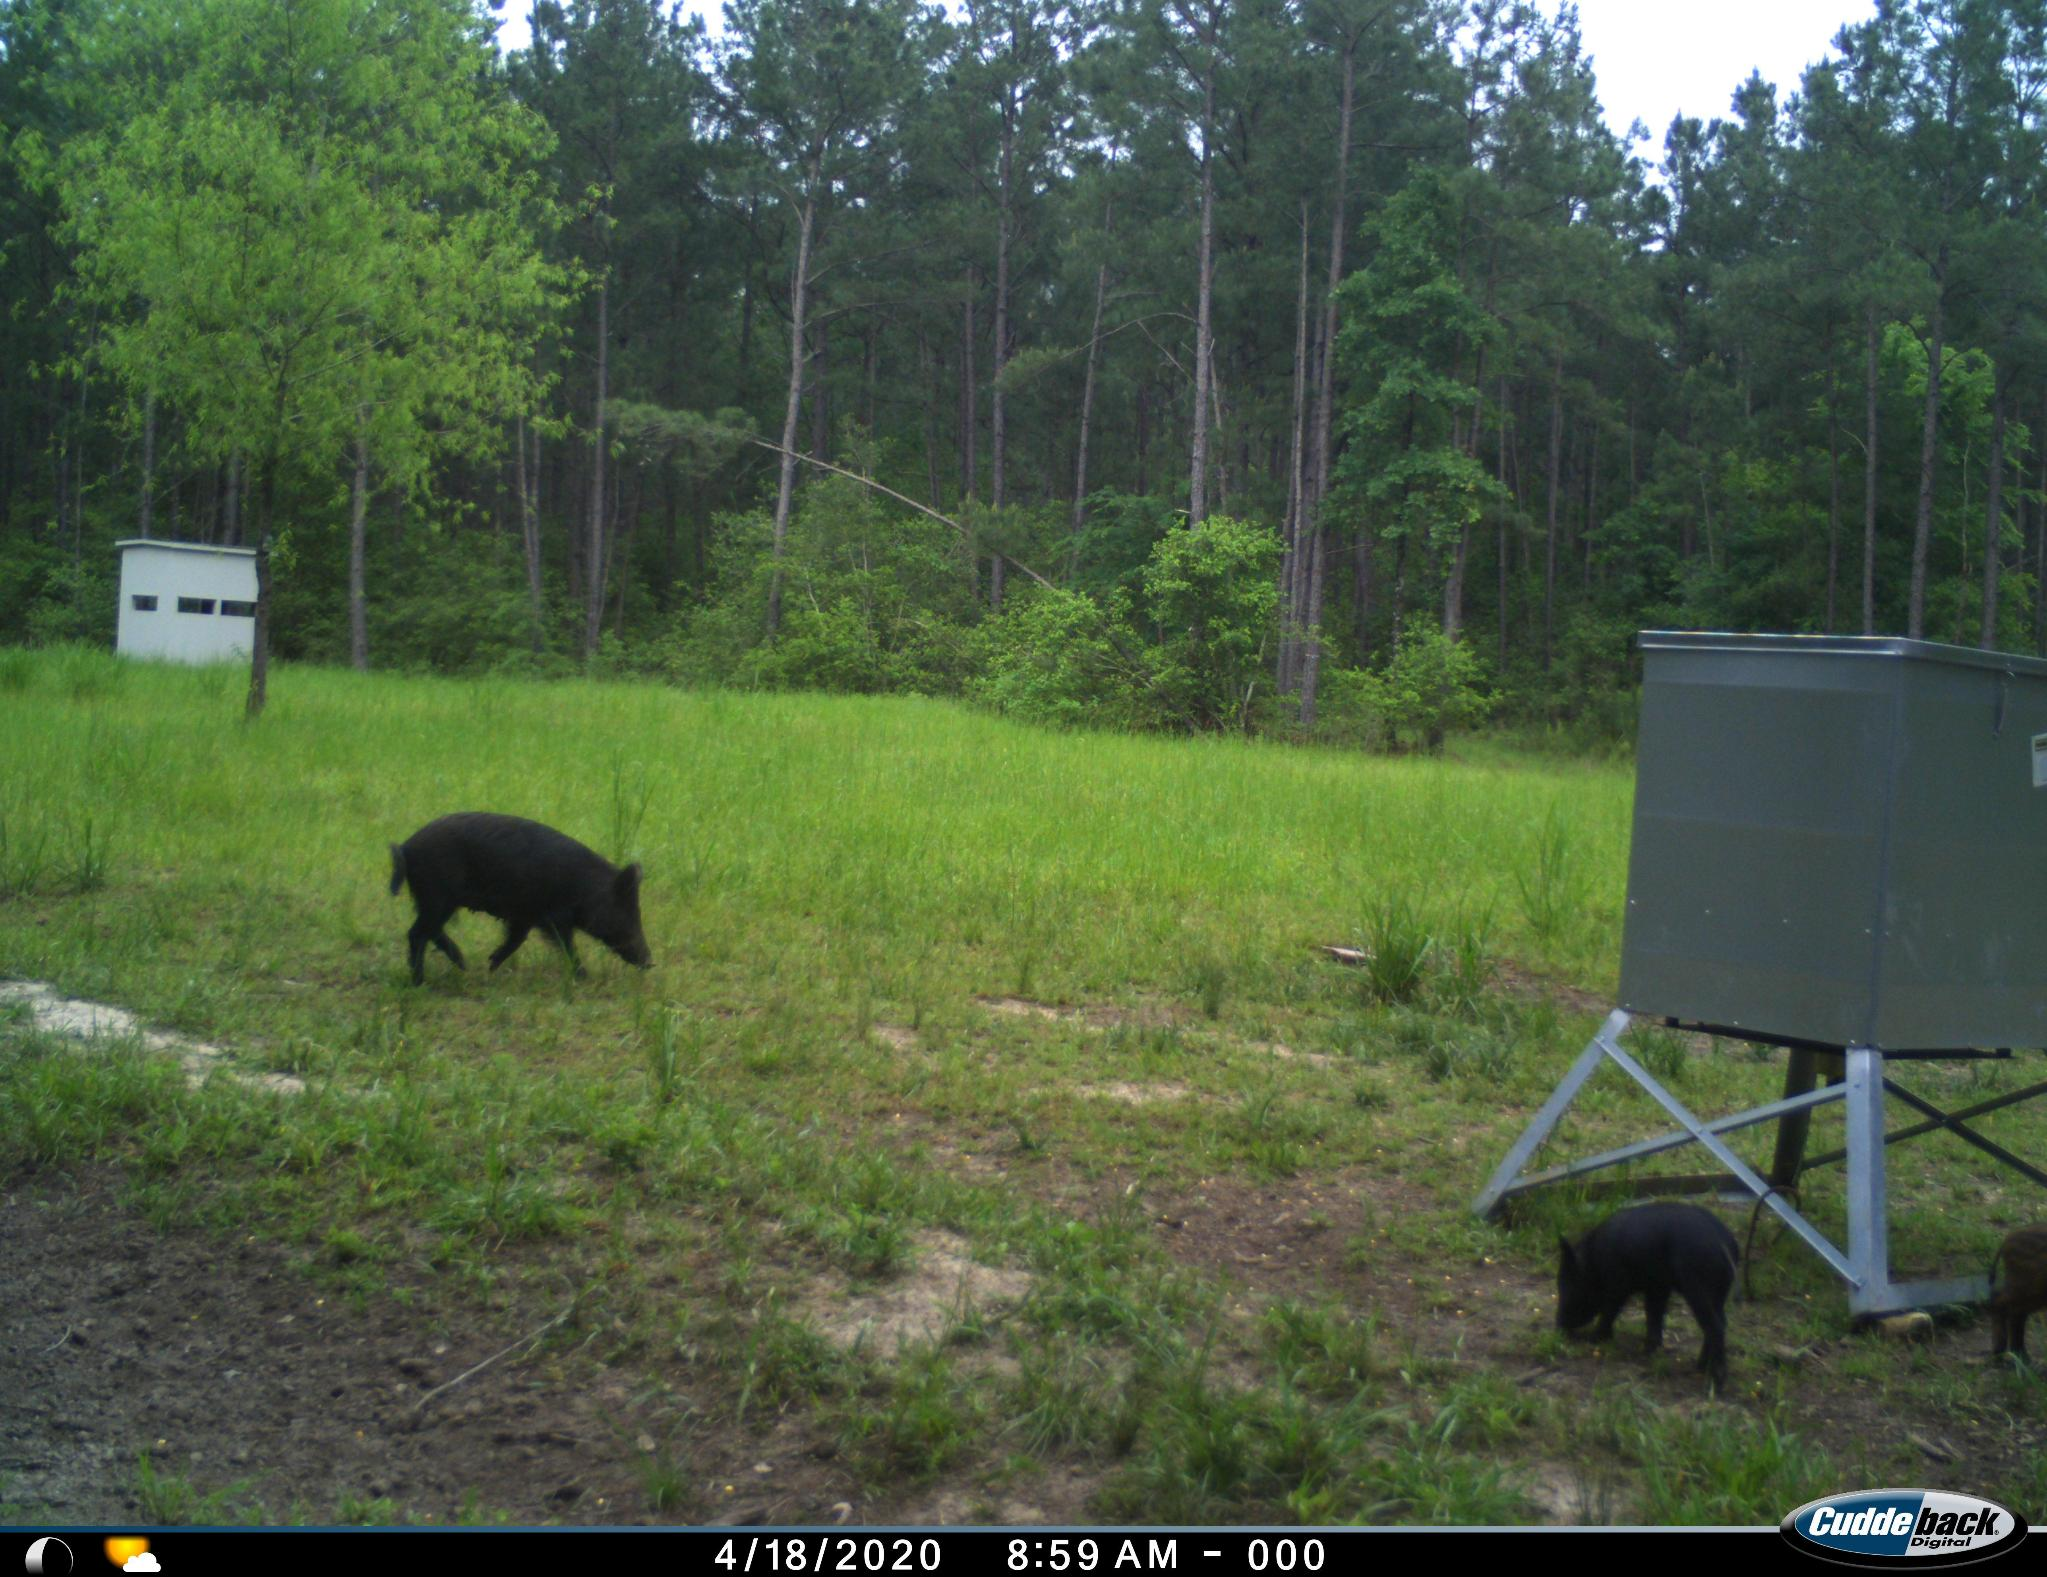Hog: (371, 805, 669, 1006), (1530, 1198, 1756, 1367), (1981, 1219, 2044, 1382)
